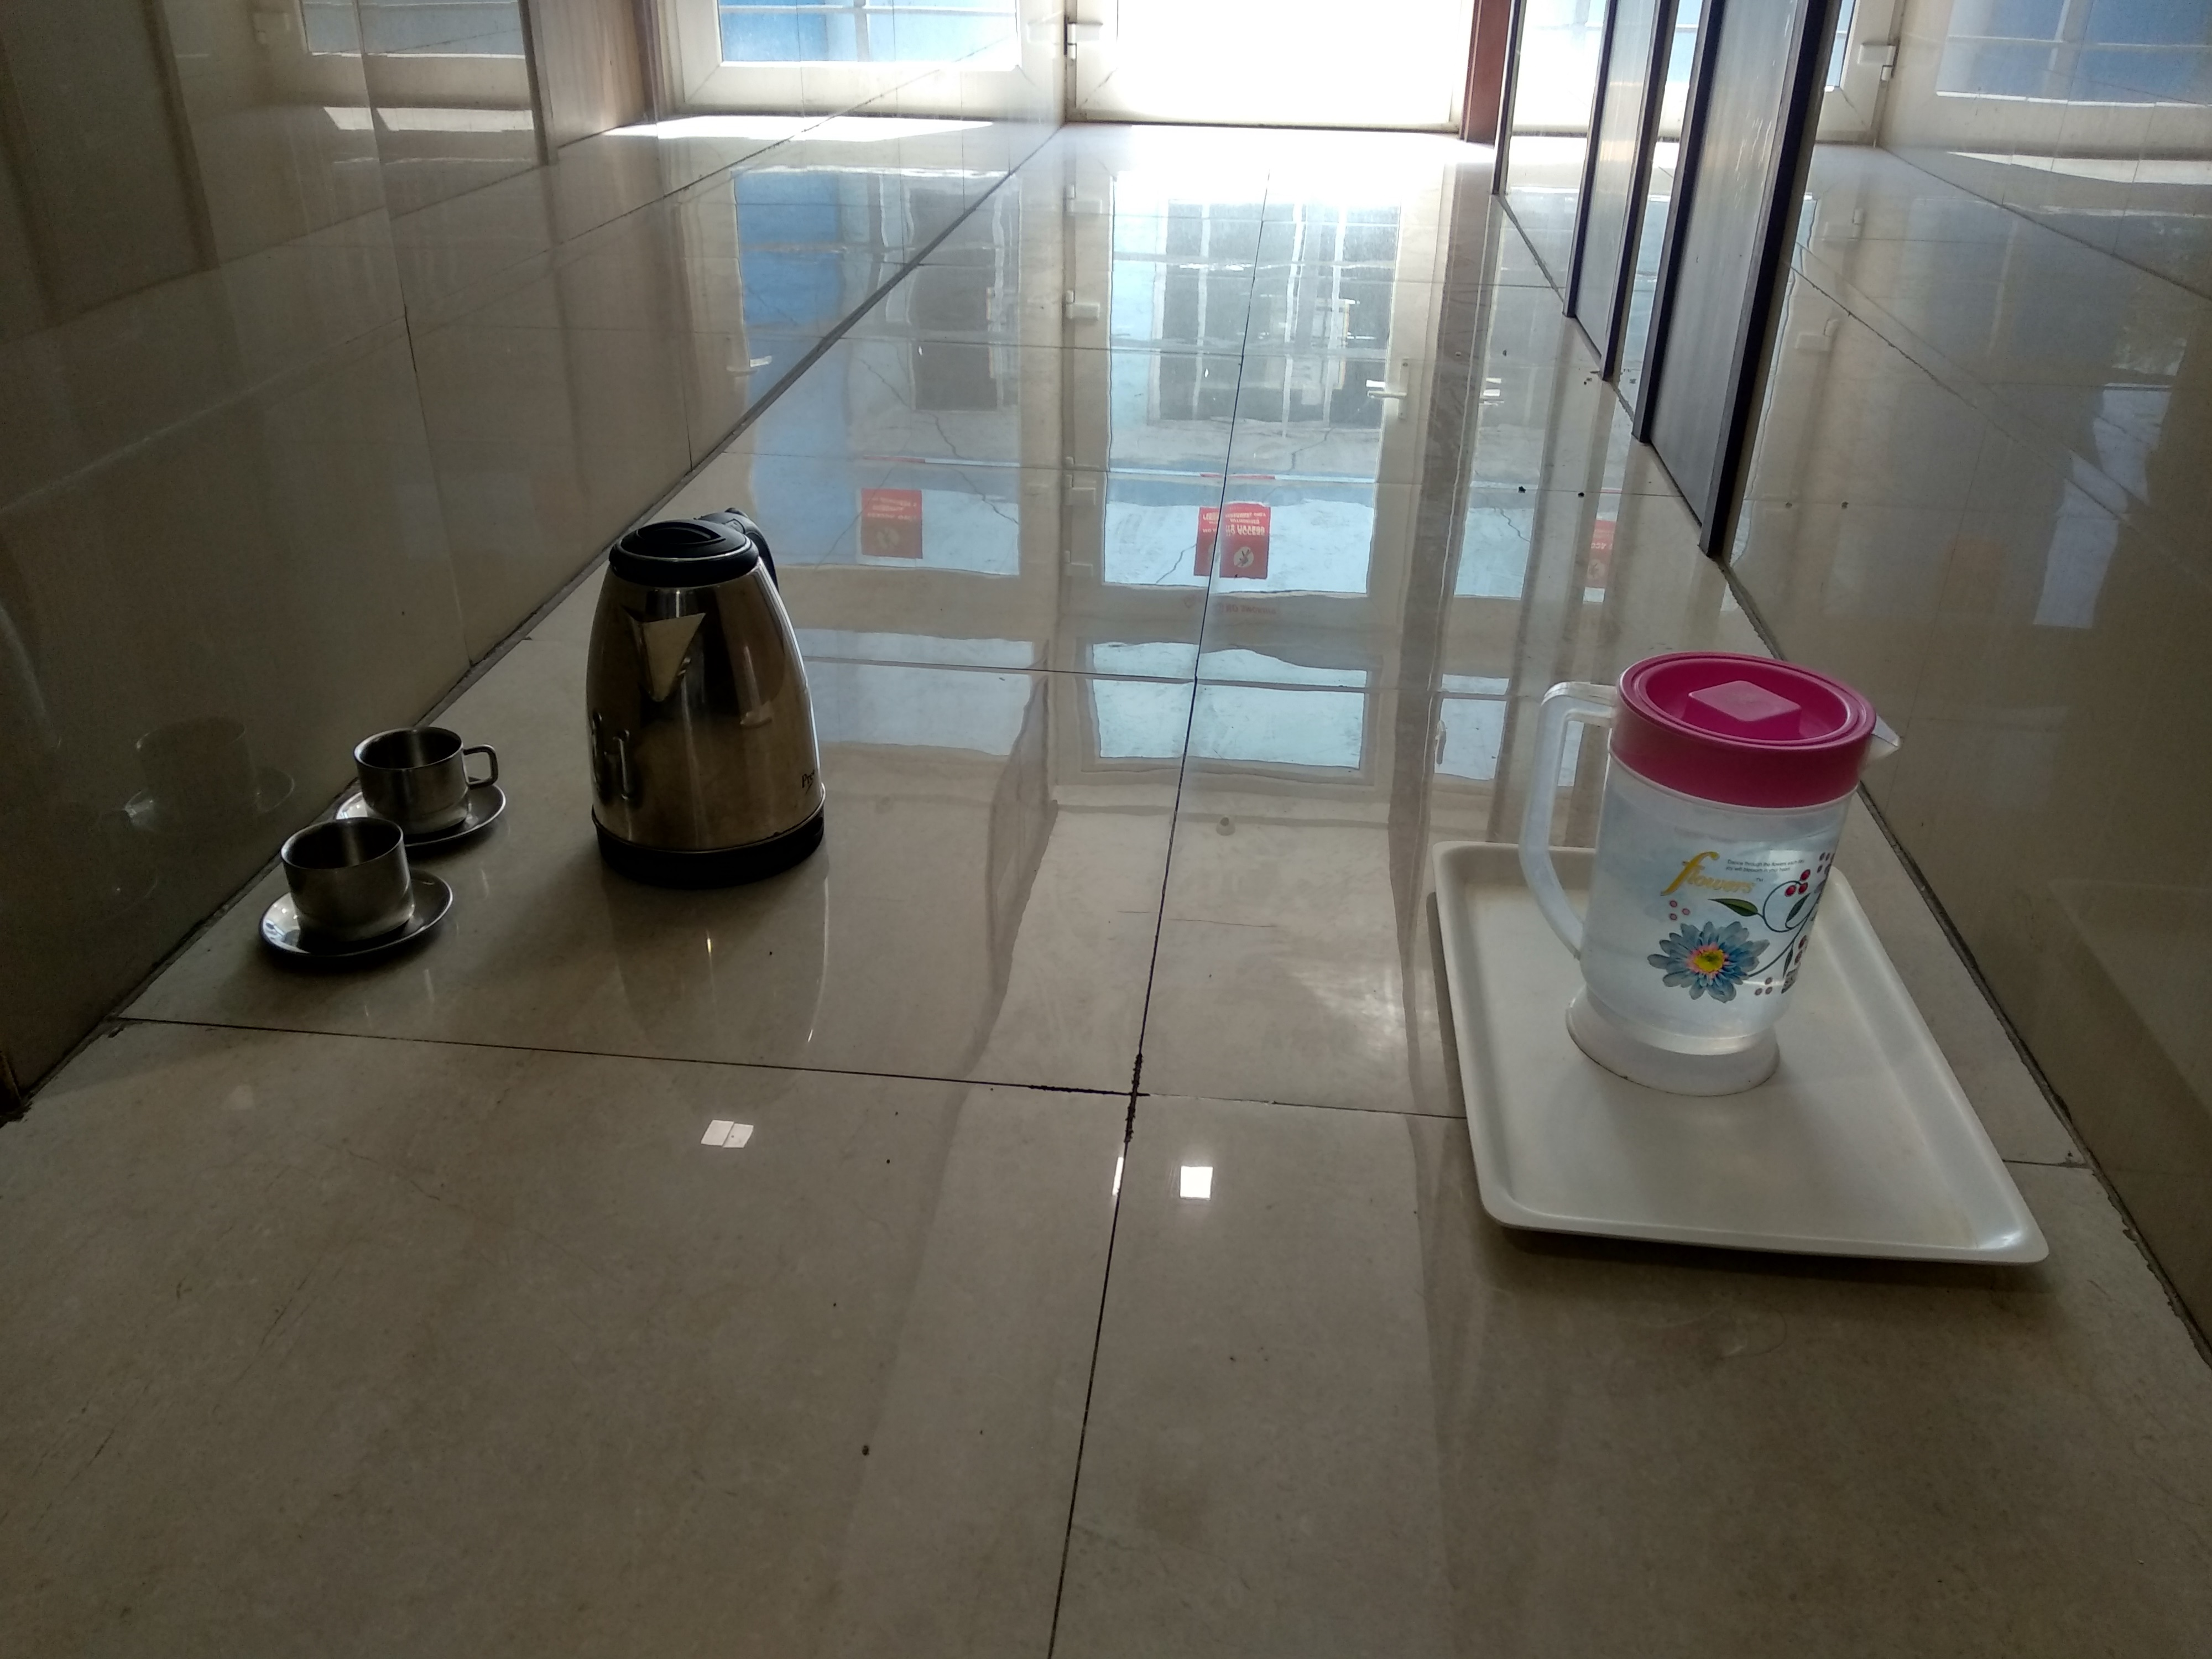CUP: (214, 807, 456, 988), (336, 711, 526, 847)
JUG: (1505, 624, 1919, 1145), (557, 493, 862, 894)
